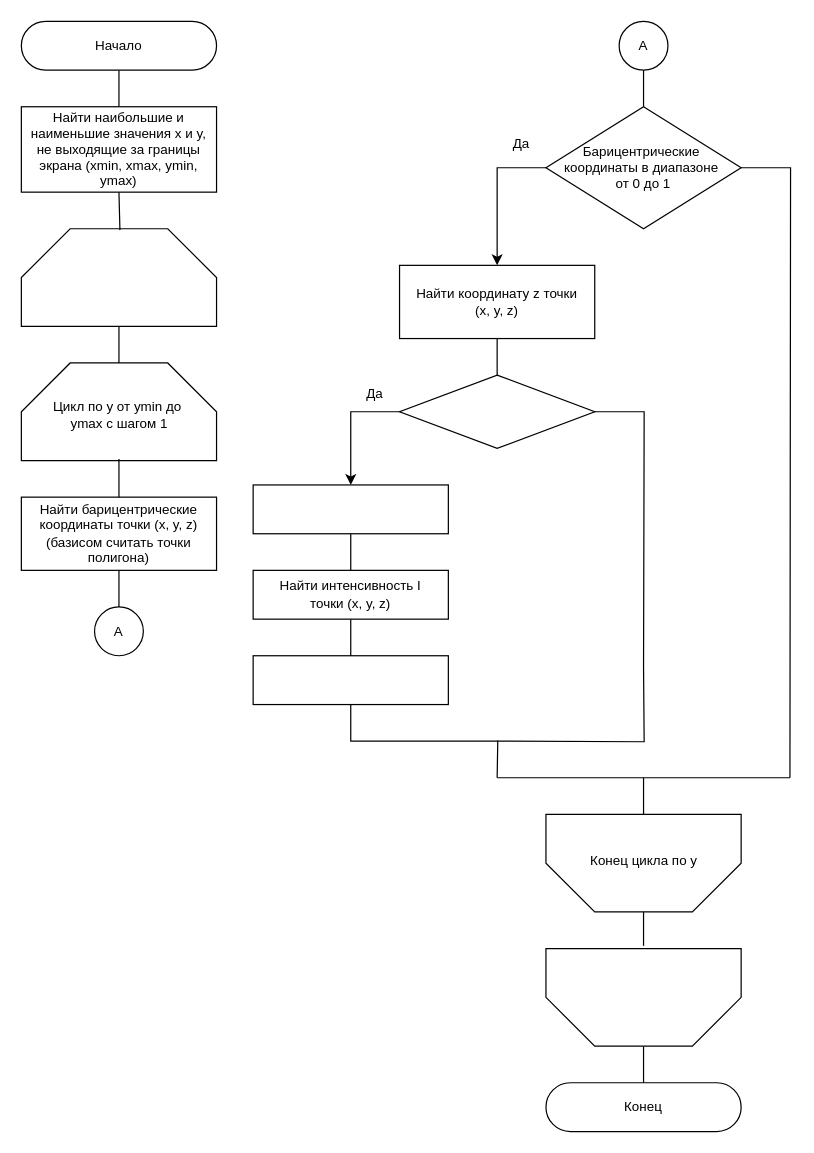
Some shapes in this 814 by 1153 pixel diagram are drawn without their labels. Here are the shapes that lost their labels. From the top down, the centre of each, then its label:
point (118, 326): Цикл по x от xmin до xmax с шагом 1
point (496, 411): z < buf[x][y]
point (350, 509): buf[x][y] = z
point (350, 680): draw(x, y, color, I)
point (643, 948): Конец цикла по x
